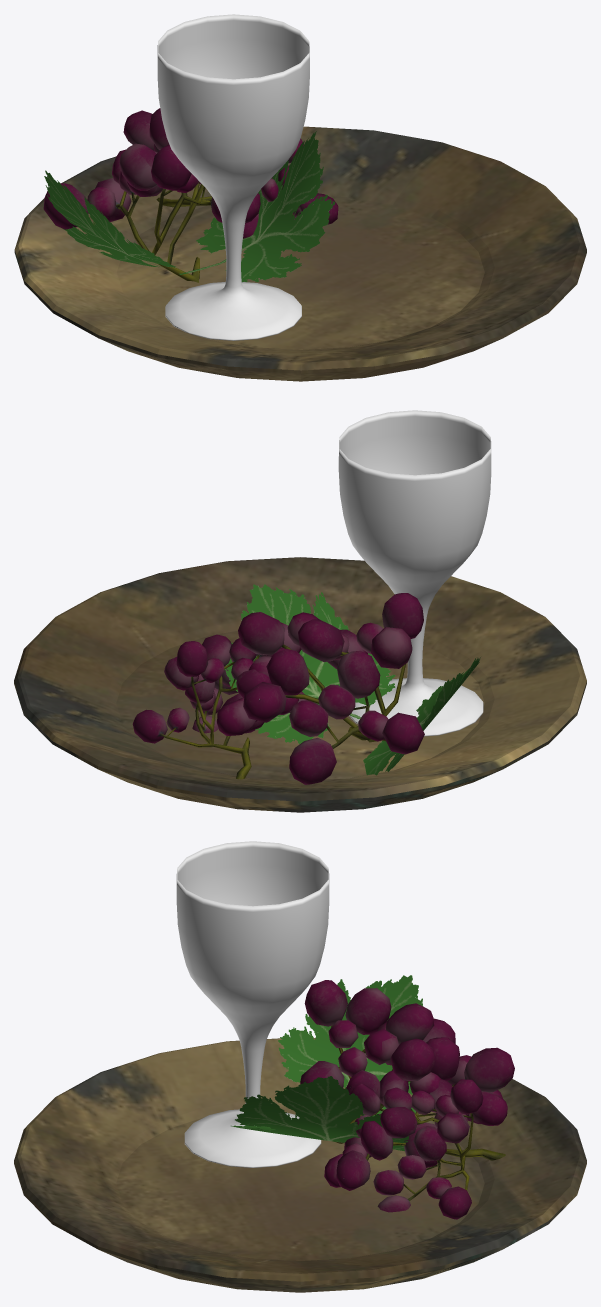
The model's file is ExtraGlassWine.fbx.
The picture shows the model from 3 angles, top to bottom: view 1: azimuth 30°, elevation 25°; view 2: azimuth 150°, elevation 25°; view 3: azimuth 270°, elevation 25°; orthographic projection.
Visible parts, largest first — view 1: Grapes_And_Orange_Slice.004, Glass; view 2: Grapes_And_Orange_Slice.004, Glass; view 3: Grapes_And_Orange_Slice.004, Glass.
Boxes of the visible parts, bbox=[...] form: Grapes_And_Orange_Slice.004: bbox=[14, 108, 586, 381]; Glass: bbox=[157, 14, 309, 340]; Grapes_And_Orange_Slice.004: bbox=[14, 557, 586, 812]; Glass: bbox=[338, 410, 491, 736]; Grapes_And_Orange_Slice.004: bbox=[14, 975, 586, 1292]; Glass: bbox=[176, 841, 329, 1167].
Size of the model in its own units: 31.56 by 18.62 by 31.56.
